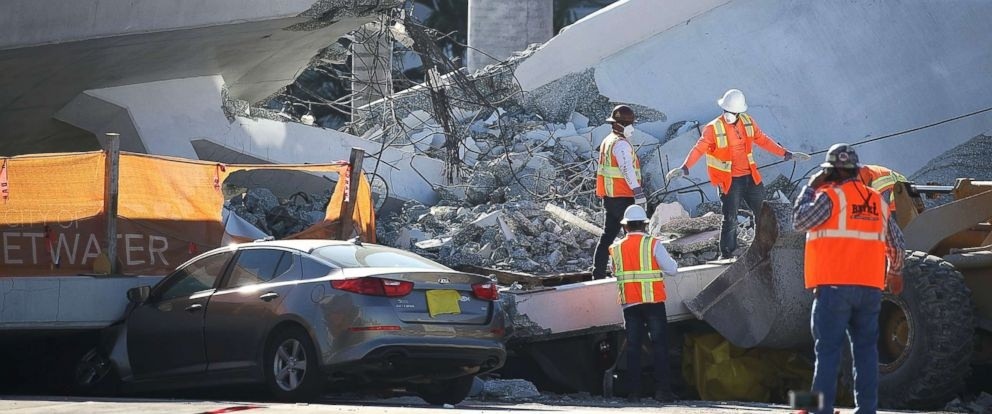blue: (825, 144, 859, 180), (609, 104, 635, 137)
white: (719, 87, 745, 121), (624, 204, 646, 232)
